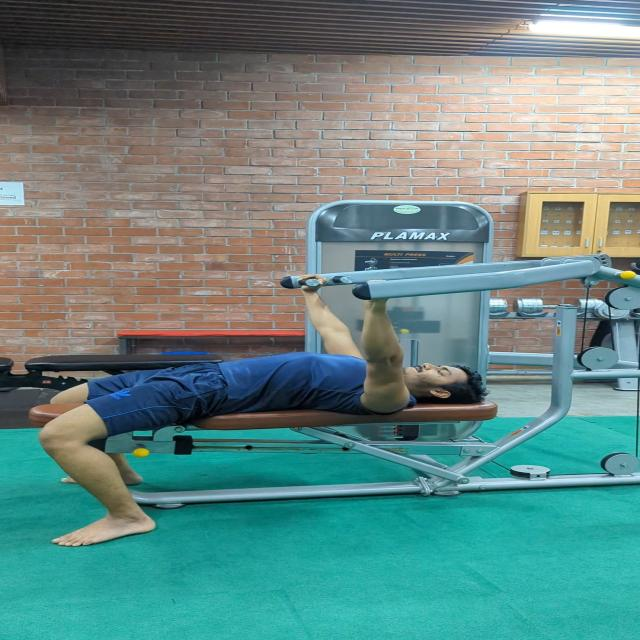Normal_BrenchPress: (31, 271, 522, 561)
